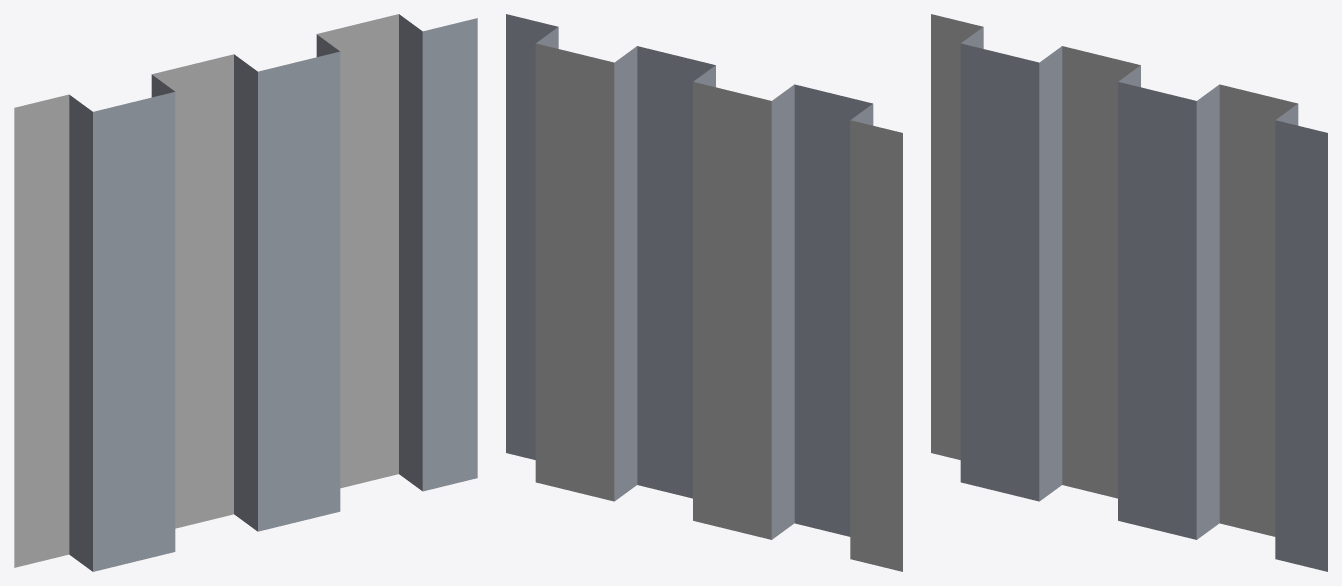
Rendered from cell_21.obj.
3 renders of one model, left to right at view 1: azimuth 30°, elevation 25°; view 2: azimuth 150°, elevation 25°; view 3: azimuth 330°, elevation 25°, orthographic. The views are drawn at different scales.
Bounding box in the file's own units: 1 × 1 × 0.0938.
